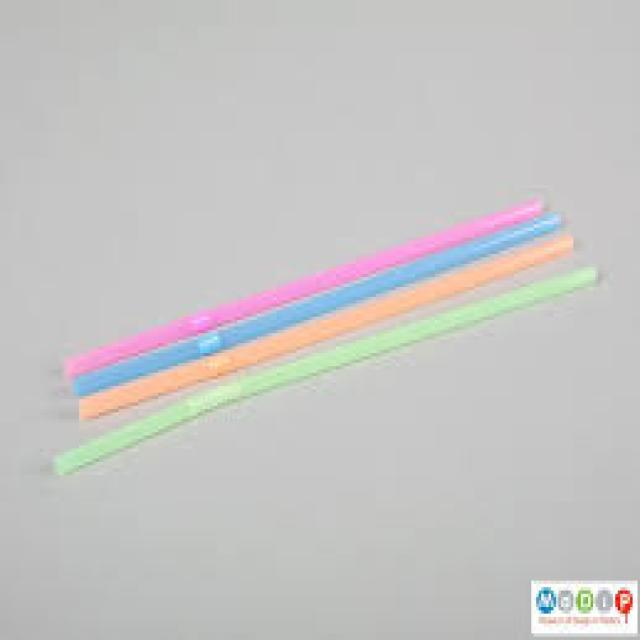plastic: (39, 232, 620, 508)
